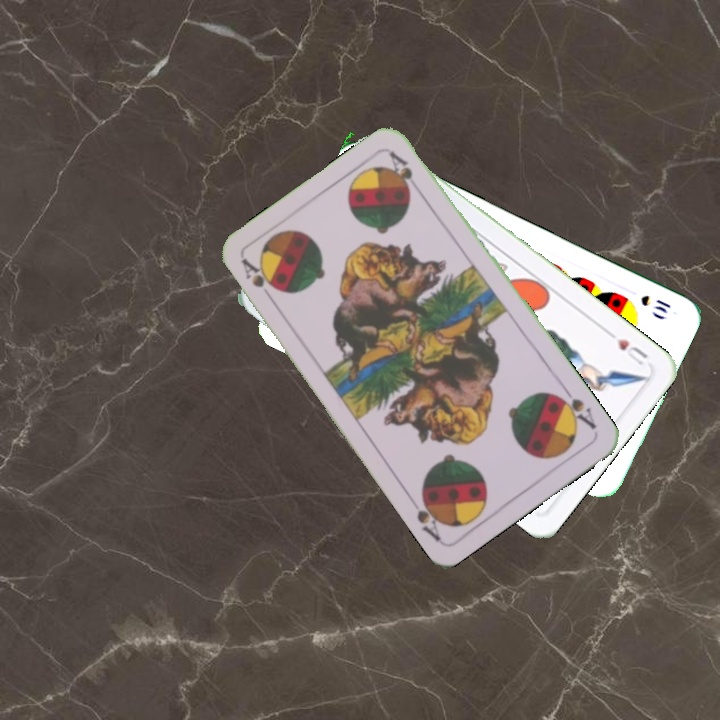HU: (603, 327, 651, 368)
S10: (636, 291, 674, 316)
SA: (550, 382, 600, 432), (237, 254, 281, 306)
